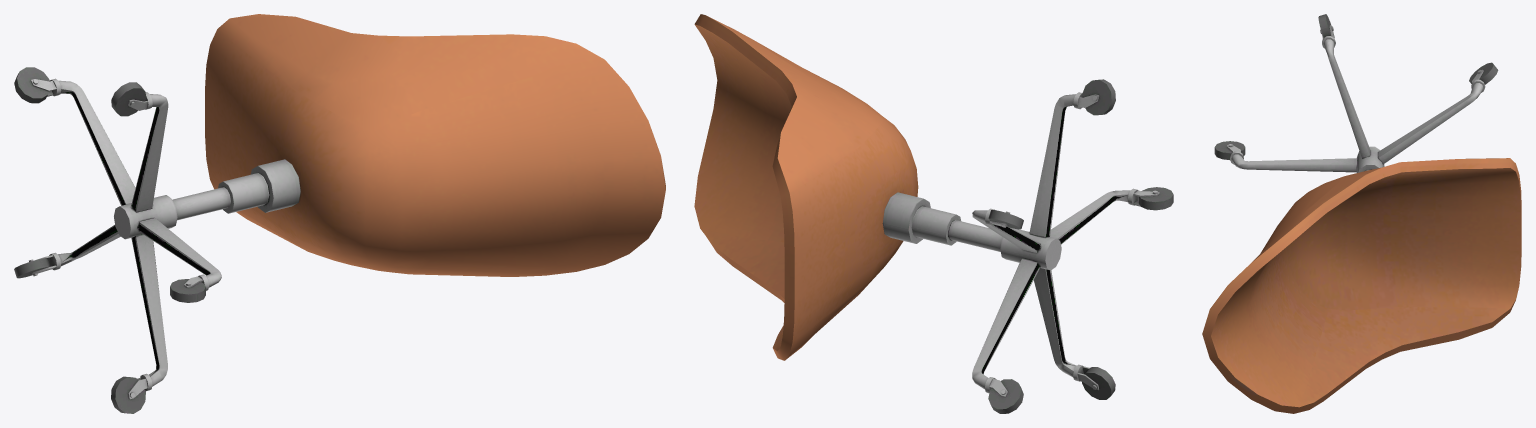
File: props_spytech_terminal_chair.glb
The picture shows the model from 3 angles, left to right: view 1: azimuth 30°, elevation 25°; view 2: azimuth 150°, elevation 25°; view 3: azimuth 270°, elevation 25°; orthographic projection. The views are drawn at different scales.
Parts seen in each view (by area): view 1: models/props_spytech/terminal_chair; view 2: models/props_spytech/terminal_chair; view 3: models/props_spytech/terminal_chair.
Boxes of the visible parts, x1,y1,x2,y2 form: models/props_spytech/terminal_chair: (14,14,665,413); models/props_spytech/terminal_chair: (694,14,1173,413); models/props_spytech/terminal_chair: (1202,14,1521,413).
Bounding box in the file's own units: 48.34 × 31.78 × 34.03.
1 material, 1 textured.
